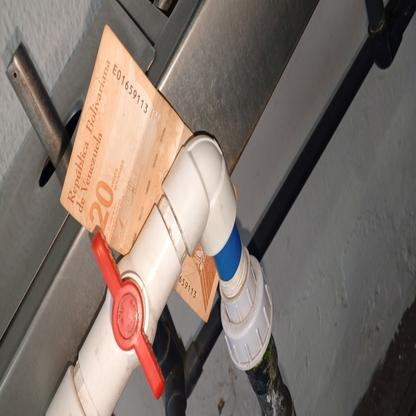twenty-back-vef: (58, 21, 220, 322)
